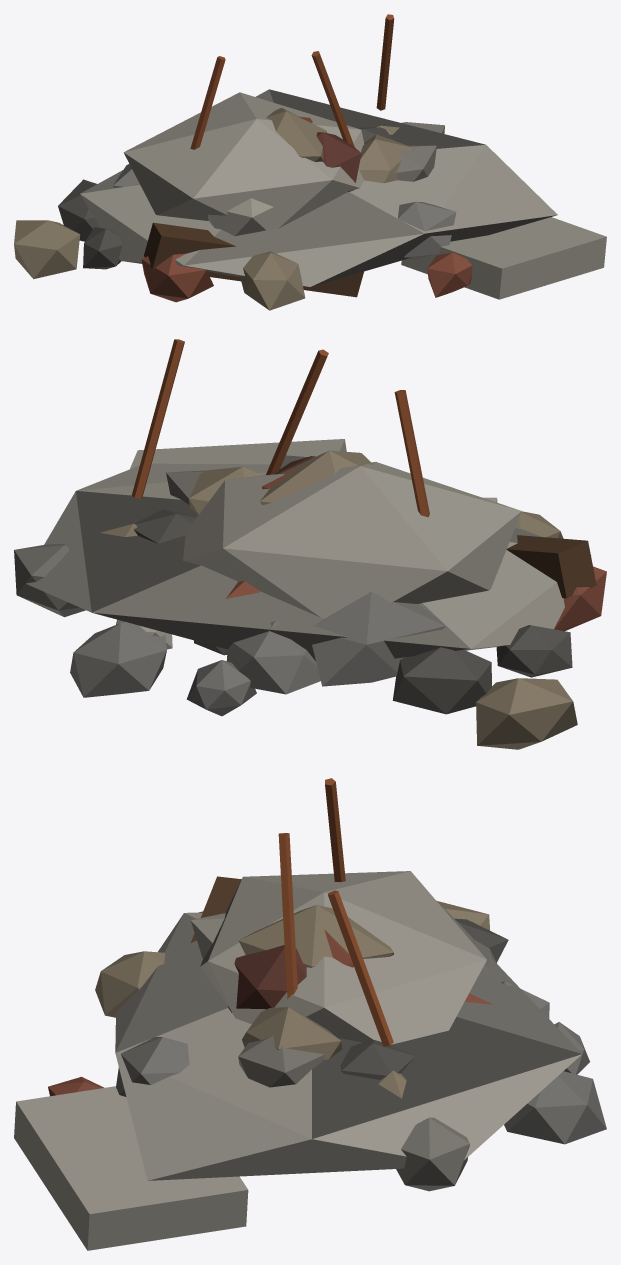
The model's file is lmk_rubble_pile.fbx.
3 renders of one model, top to bottom at view 1: azimuth 30°, elevation 25°; view 2: azimuth 150°, elevation 25°; view 3: azimuth 270°, elevation 25°, orthographic. The views are drawn at different scales.
Parts seen in each view (by area): view 1: lmk_rubble_pile; view 2: lmk_rubble_pile; view 3: lmk_rubble_pile.
Boxes of the visible parts, bbox=[...] form: lmk_rubble_pile: bbox=[14, 14, 606, 310]; lmk_rubble_pile: bbox=[14, 339, 606, 749]; lmk_rubble_pile: bbox=[14, 778, 606, 1250].
Size of the model in its own units: 2.94 by 1.31 by 2.46.
